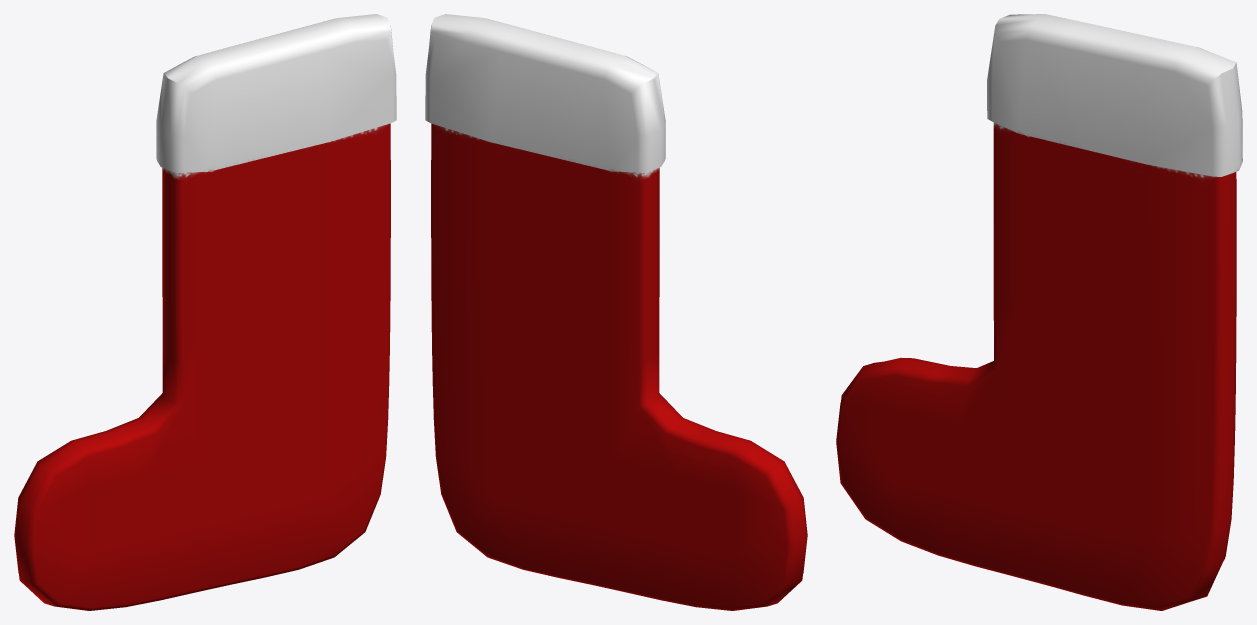
Rendered from boot.fbx.
The picture shows the model from 3 angles, left to right: view 1: azimuth 30°, elevation 25°; view 2: azimuth 150°, elevation 25°; view 3: azimuth 330°, elevation 25°; orthographic projection. The views are drawn at different scales.
Parts seen in each view (by area): view 1: boot; view 2: boot; view 3: boot.
Boxes of the visible parts, box(x1,y1,x2,y2) form: boot: box(14, 14, 396, 610); boot: box(425, 14, 807, 610); boot: box(836, 14, 1242, 610).
Bounding box in the file's own units: 37.47 × 50.21 × 3.99.
Materials: 1 (1 with a texture image).
